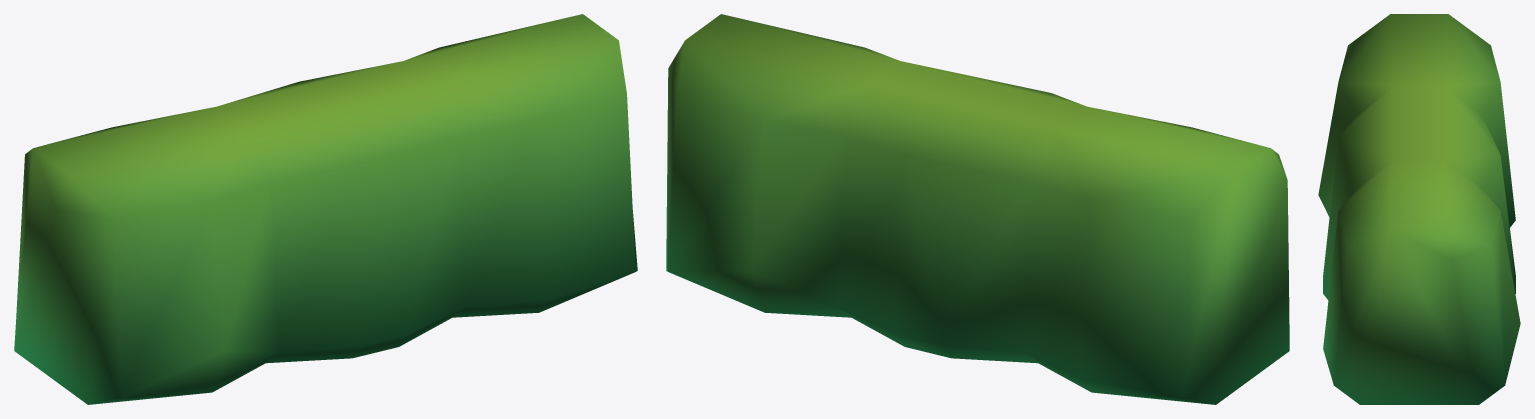
Rendered from luong-che.glb.
3 renders of one model, left to right at view 1: azimuth 30°, elevation 25°; view 2: azimuth 150°, elevation 25°; view 3: azimuth 270°, elevation 25°, orthographic. The views are drawn at different scales.
Visible parts, largest first — view 1: hedge_straight_long; view 2: hedge_straight_long; view 3: hedge_straight_long.
Boxes of the visible parts, bbox=[...] form: hedge_straight_long: bbox=[14, 14, 637, 404]; hedge_straight_long: bbox=[666, 14, 1289, 404]; hedge_straight_long: bbox=[1318, 14, 1520, 404].
Bounding box in the file's own units: 4 × 1.46 × 1.5.
